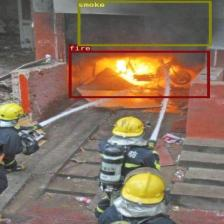fire: (68, 50, 210, 98)
smoke: (78, 0, 212, 46)
